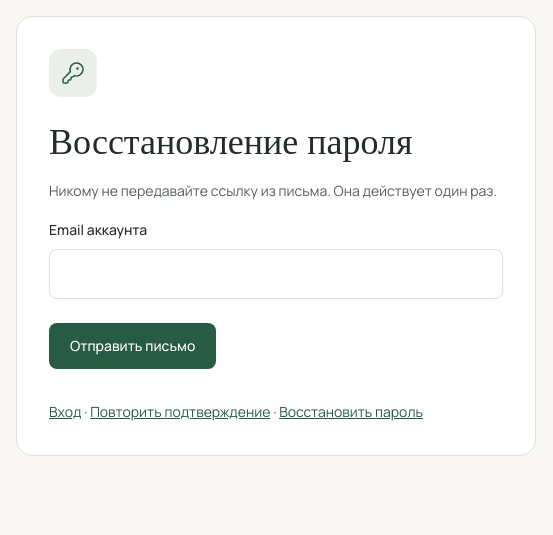
запрашивает восстановление и показывает нейтральное подтверждение
Type "author@example.test" into the field labelled "Email аккаунта".
click(276, 274); type("author@example.test")  # box [49,249,503,299]
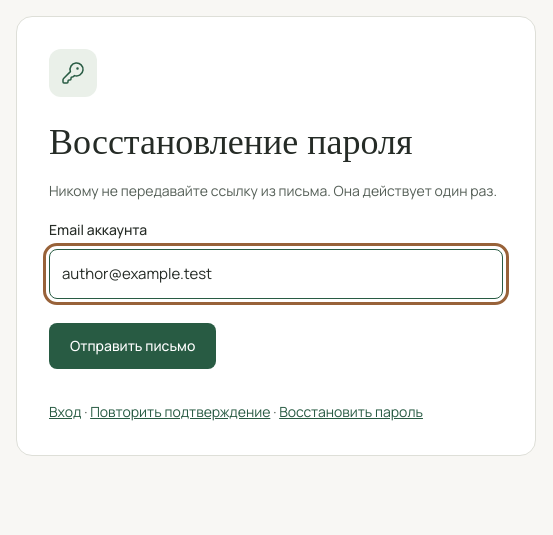
Click the button "Отправить письмо".
click(133, 346)  # box [49,323,216,369]
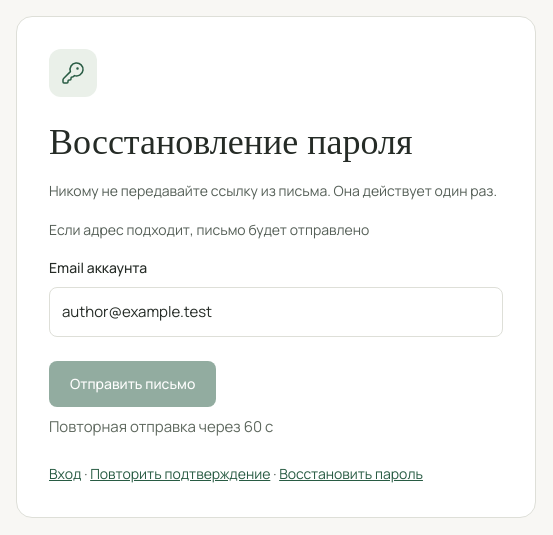
Expected: the message shows "Если адрес подходит", [49,220,369,239]
